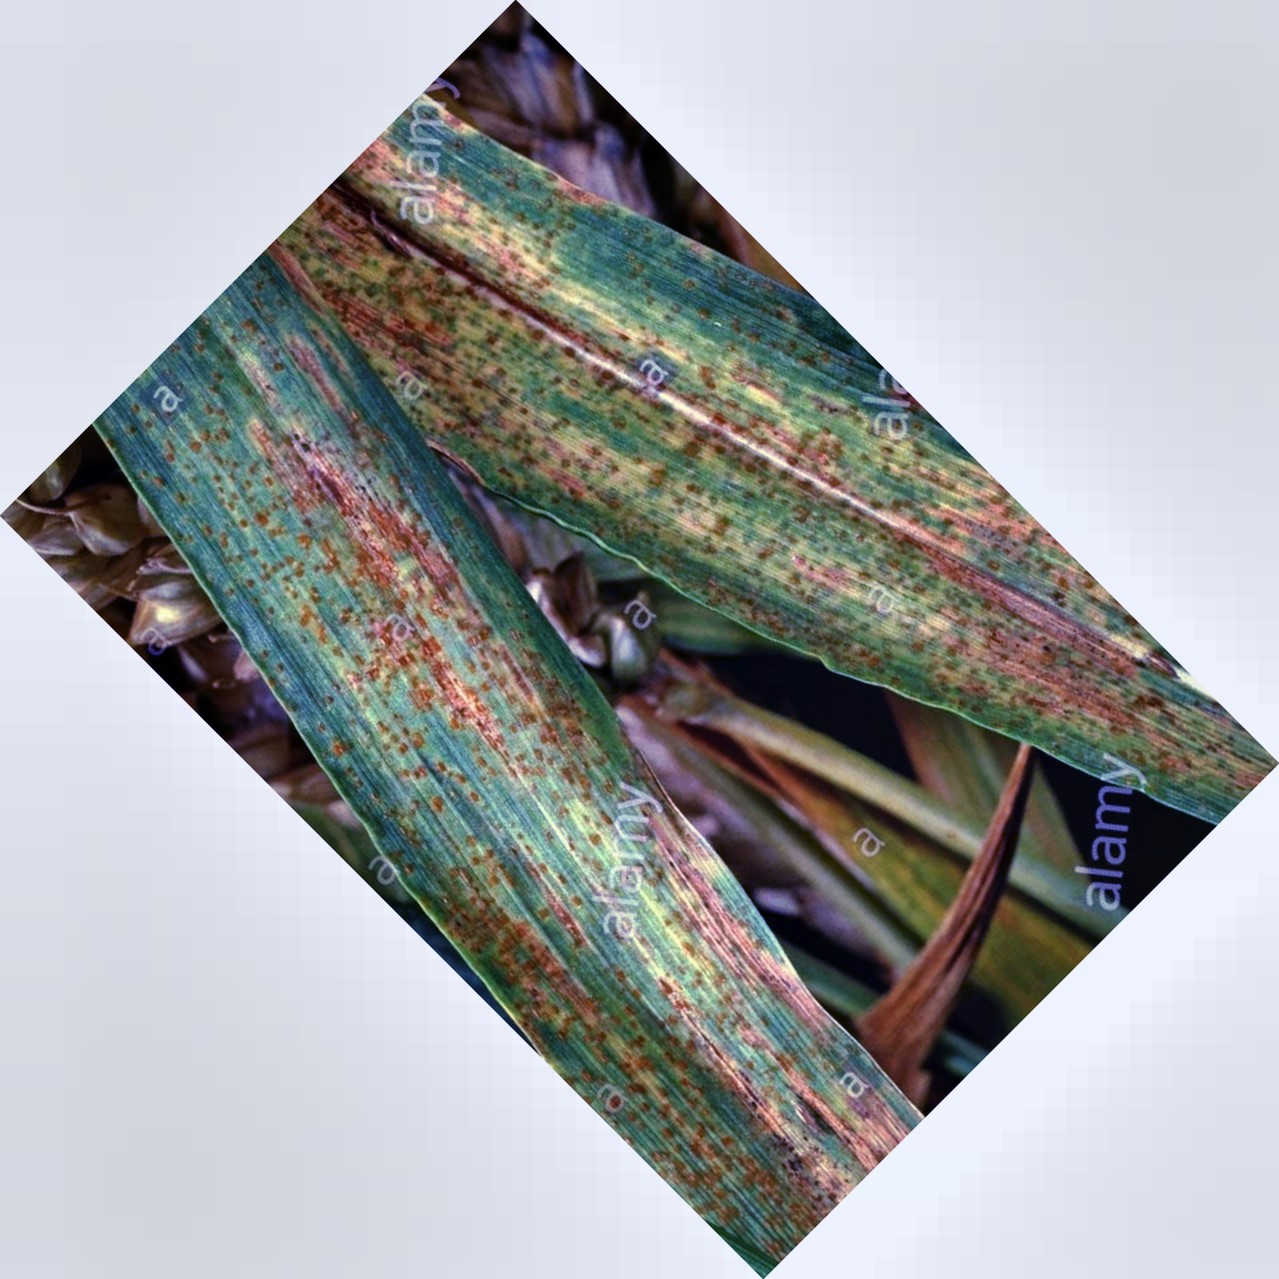Leaf Rust: (208, 390, 771, 1124)
